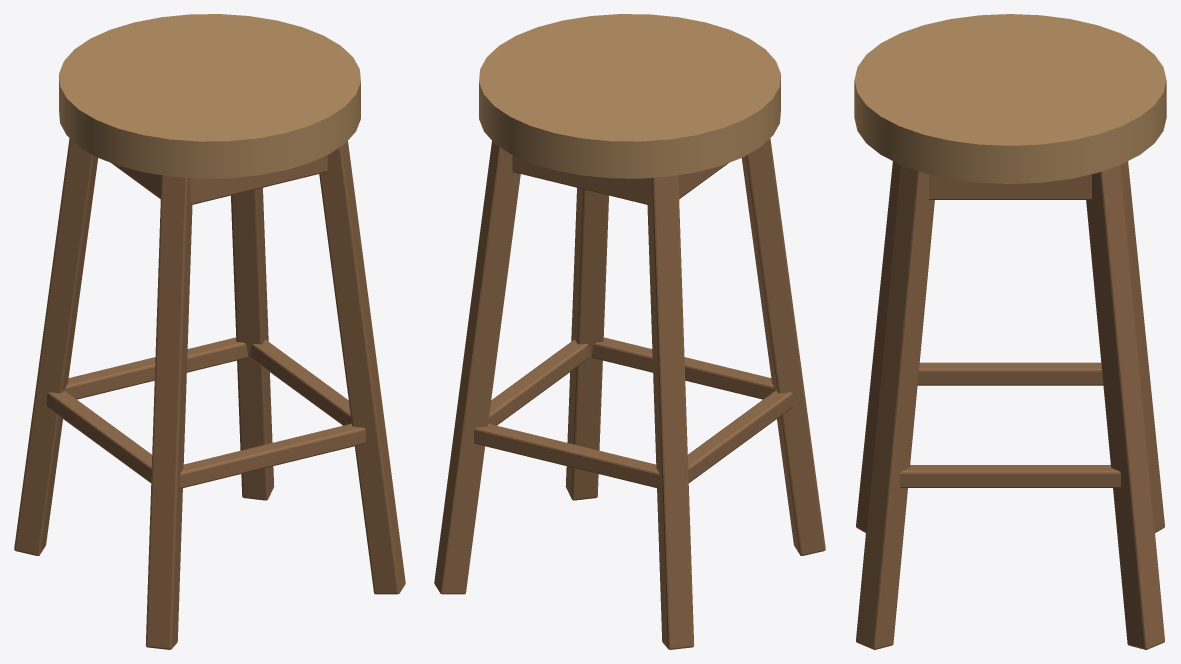
File: chair_bar_stool.glb
The picture shows the model from 3 angles, left to right: view 1: azimuth 30°, elevation 25°; view 2: azimuth 150°, elevation 25°; view 3: azimuth 270°, elevation 25°; orthographic projection. The views are drawn at different scales.
Visible parts, largest first — view 1: BarStool_Round_Seat, BarStool_Leg, BarStool_Leg.002, BarStool_Leg.001, BarStool_Leg.003, BarStool_Footrest, BarStool_Footrest.002, BarStool_Footrest.001, BarStool_Footrest.003, BarStool_Front_Back_Apron, BarStool_Side_Apron; view 2: BarStool_Round_Seat, BarStool_Leg.001, BarStool_Leg.003, BarStool_Leg, BarStool_Leg.002, BarStool_Footrest.002, BarStool_Footrest, BarStool_Footrest.001, BarStool_Footrest.003, BarStool_Front_Back_Apron.001, BarStool_Side_Apron; view 3: BarStool_Round_Seat, BarStool_Leg.002, BarStool_Leg.003, BarStool_Footrest.003, BarStool_Footrest.001, BarStool_Leg, BarStool_Leg.001, BarStool_Side_Apron.001.
Part boxes in pixels (left/top/right/bottom): BarStool_Round_Seat: left=59, top=14, right=360, bottom=178; BarStool_Leg: left=145, top=175, right=192, bottom=649; BarStool_Leg.002: left=319, top=141, right=405, bottom=594; BarStool_Leg.001: left=14, top=138, right=98, bottom=555; BarStool_Leg.003: left=231, top=187, right=274, bottom=500; BarStool_Footrest: left=180, top=423, right=365, bottom=488; BarStool_Footrest.002: left=65, top=337, right=248, bottom=399; BarStool_Footrest.001: left=47, top=390, right=152, bottom=482; BarStool_Footrest.003: left=250, top=339, right=351, bottom=425; BarStool_Front_Back_Apron: left=190, top=155, right=327, bottom=204; BarStool_Side_Apron: left=111, top=163, right=161, bottom=198; BarStool_Round_Seat: left=479, top=14, right=780, bottom=178; BarStool_Leg.001: left=647, top=175, right=694, bottom=649; BarStool_Leg.003: left=434, top=141, right=520, bottom=594; BarStool_Leg: left=741, top=138, right=825, bottom=555; BarStool_Leg.002: left=565, top=187, right=608, bottom=500; BarStool_Footrest.002: left=474, top=423, right=659, bottom=488; BarStool_Footrest: left=591, top=337, right=774, bottom=399; BarStool_Footrest.001: left=687, top=390, right=792, bottom=482; BarStool_Footrest.003: left=488, top=339, right=589, bottom=425; BarStool_Front_Back_Apron.001: left=512, top=155, right=649, bottom=204; BarStool_Side_Apron: left=649, top=163, right=728, bottom=202; BarStool_Round_Seat: left=854, top=14, right=1166, bottom=183; BarStool_Leg.002: left=856, top=165, right=934, bottom=649; BarStool_Leg.003: left=1086, top=165, right=1164, bottom=649; BarStool_Footrest.003: left=900, top=465, right=1120, bottom=487; BarStool_Footrest.001: left=917, top=362, right=1103, bottom=385; BarStool_Leg: left=856, top=161, right=900, bottom=532; BarStool_Leg.001: left=1120, top=161, right=1164, bottom=532; BarStool_Side_Apron.001: left=929, top=174, right=1091, bottom=199.
Bounding box in the file's own units: 0.436 × 0.7835 × 0.436.
